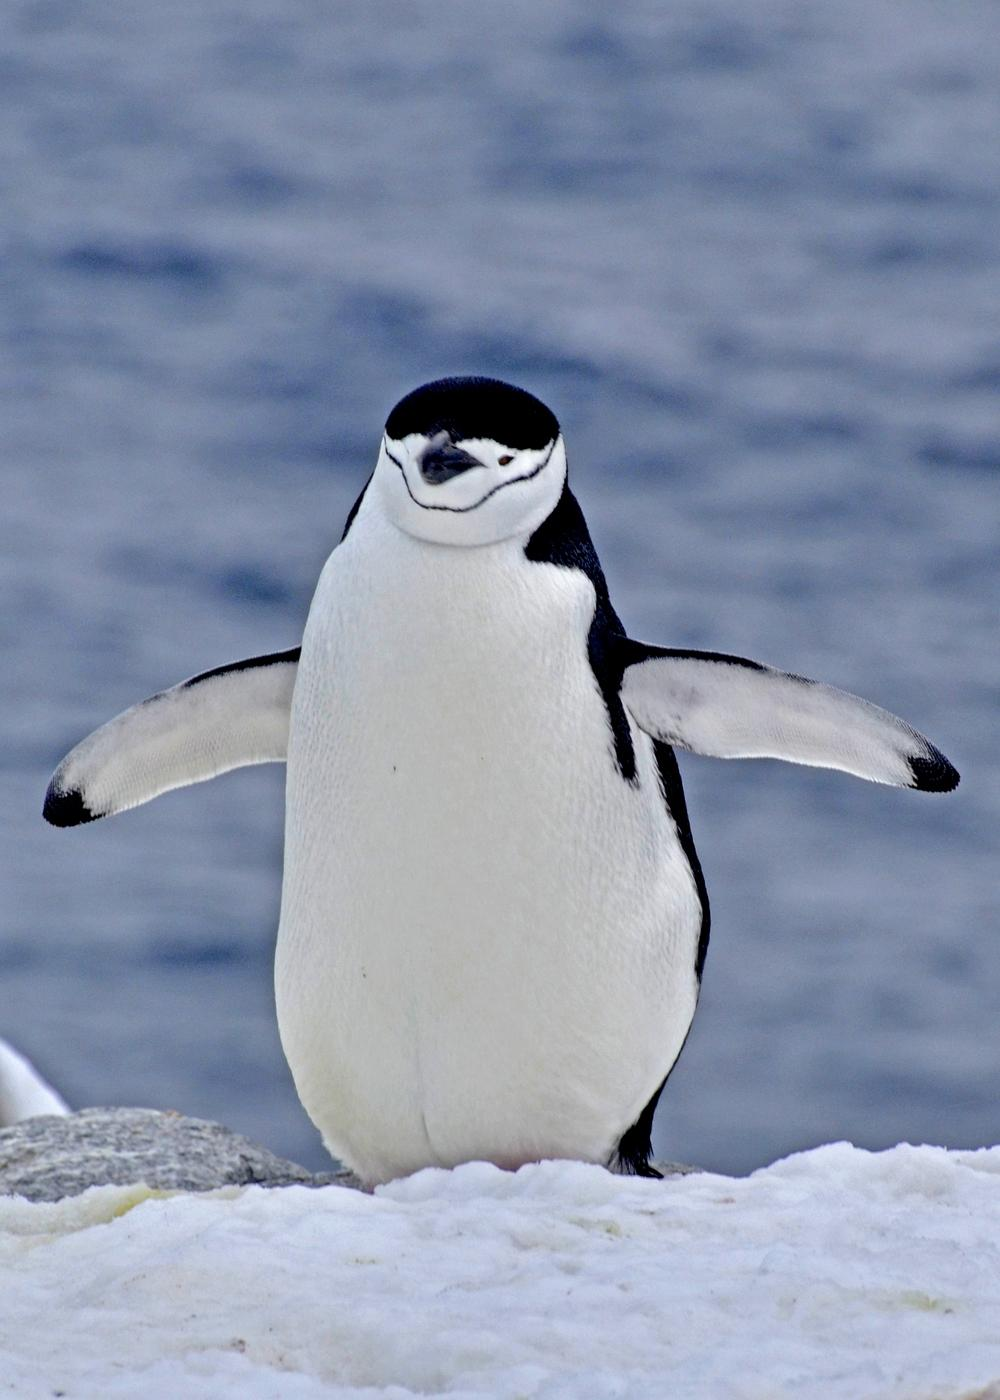chinstrap: (1, 347, 979, 1280)
